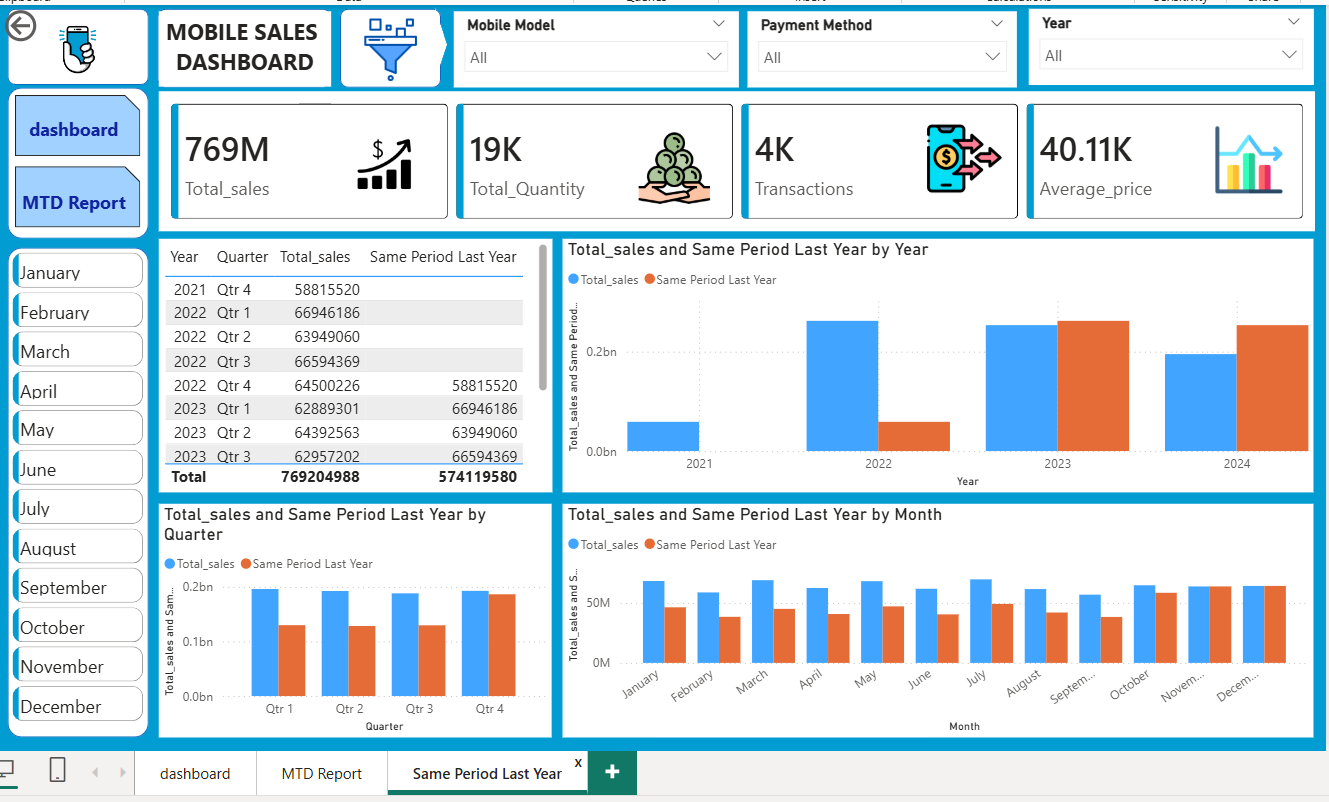

The dashboard page shown, as its layout file describes it:
{"tool":"powerbi","page":{"name":"Same Period Last Year","canvas":[1280,720],"ordinal":2},"visuals":[{"type":"shape","box":[7.2,3.6,136.3,73.6],"z":0},{"type":"image","box":[16.9,12.1,119.4,61.5],"z":1000},{"type":"cardVisual","fields":{"Data":["Sales_Data.Total_sales","Sales_Data.Total_Quantity","Sales_Data.Transactions","Sales_Data.Average_price"]},"box":[148.4,78.4,1128,146],"z":2000},{"type":"image","box":[328.2,120.6,85.7,65.1],"z":3000},{"type":"image","box":[609.3,120.6,83.2,73.6],"z":4000},{"type":"image","box":[891.6,112.2,78.4,72.4],"z":5000},{"type":"image","box":[1169,117,72.4,65.1],"z":6000},{"type":"slicer","fields":{"Values":["Sales_Data.Mobile Model"]},"box":[437.5,6.2,275,73.8],"z":7000},{"type":"slicer","fields":{"Values":["Sales_Data.Payment Method"]},"box":[721.2,6.2,260,73.8],"z":8000},{"type":"slicer","fields":{"Values":["Custom_Calendar.Date.Variation.Date Hierarchy.Year","Custom_Calendar.Date.Variation.Date Hierarchy.Quarter","Custom_Calendar.Date.Variation.Date Hierarchy.Month","Custom_Calendar.Date.Variation.Date Hierarchy.Day"]},"box":[992.5,3.8,275,73.8],"z":9000},{"type":"shape","box":[328.8,3.8,97.5,76.2],"z":10000},{"type":"image","box":[340,12.5,73.8,62.5],"z":11000},{"type":"shape","box":[407.5,1.2,23.8,73.8],"z":12000},{"type":"shape","box":[152.5,3.8,167.5,76.2],"z":13000},{"type":"textbox","box":[153.8,6.2,166.2,72.5],"z":14000},{"type":"shape","box":[7.2,79.6,136.3,146],"z":15000},{"type":"actionButton","box":[0,0,100,40],"z":16000},{"type":"shape","box":[7.2,234,136.3,472.9],"z":17000},{"type":"tableEx","fields":{"Values":["Custom_Calendar.Date.Variation.Date Hierarchy.Year","Custom_Calendar.Date.Variation.Date Hierarchy.Quarter","Sales_Data.Total_sales","Sales_Data.Same Period Last Year"]},"box":[153.2,225.6,380,244.9],"z":18000},{"type":"clusteredColumnChart","fields":{"Category":["Custom_Calendar.Date.Variation.Date Hierarchy.Year","Custom_Calendar.Date.Variation.Date Hierarchy.Quarter"],"Y":["Sales_Data.Total_sales","Sales_Data.Same Period Last Year"]},"box":[542.9,225.6,725.1,244.9],"z":19000},{"type":"clusteredColumnChart","fields":{"Category":["Custom_Calendar.Date.Variation.Date Hierarchy.Year","Custom_Calendar.Date.Variation.Date Hierarchy.Quarter"],"Y":["Sales_Data.Total_sales","Sales_Data.Same Period Last Year"]},"box":[153.2,481.4,378.8,225.6],"z":20000},{"type":"clusteredColumnChart","fields":{"Category":["Custom_Calendar.Date.Variation.Date Hierarchy.Year","Custom_Calendar.Date.Variation.Date Hierarchy.Quarter","Custom_Calendar.Date.Variation.Date Hierarchy.Month","Custom_Calendar.Date.Variation.Date Hierarchy.Day"],"Y":["Sales_Data.Total_sales","Sales_Data.Same Period Last Year"]},"box":[542.9,481.4,725.1,225.6],"z":21000},{"type":"pageNavigator","box":[14.5,86.9,121.9,129.1],"z":22000},{"type":"advancedSlicerVisual","fields":{"Values":["Custom_Calendar.Date.Variation.Date Hierarchy.Month"]},"box":[7.2,234,136.3,472.9],"z":23000}]}

Visuals, with their boxes on the page's 1280x720 design canvas (x1, y1, x2, y2). These are canvas units, not pixel positions in the 1329x802 screenshot, which may show the page scaled, cropped or inside an application window:
shape: pyautogui.locateOnScreen(7, 4, 144, 77)
image: pyautogui.locateOnScreen(17, 12, 136, 74)
cardVisual - Sales_Data.Total_sales x Sales_Data.Total_Quantity: pyautogui.locateOnScreen(148, 78, 1276, 224)
image: pyautogui.locateOnScreen(328, 121, 414, 186)
image: pyautogui.locateOnScreen(609, 121, 692, 194)
image: pyautogui.locateOnScreen(892, 112, 970, 185)
image: pyautogui.locateOnScreen(1169, 117, 1241, 182)
slicer - Sales_Data.Mobile Model: pyautogui.locateOnScreen(438, 6, 712, 80)
slicer - Sales_Data.Payment Method: pyautogui.locateOnScreen(721, 6, 981, 80)
slicer - Custom_Calendar.Date.Variation.Date Hierarchy.Year x Custom_Calendar.Date.Variation.Date Hierarchy.Quarter: pyautogui.locateOnScreen(992, 4, 1268, 78)
shape: pyautogui.locateOnScreen(329, 4, 426, 80)
image: pyautogui.locateOnScreen(340, 12, 414, 75)
shape: pyautogui.locateOnScreen(408, 1, 431, 75)
shape: pyautogui.locateOnScreen(152, 4, 320, 80)
textbox: pyautogui.locateOnScreen(154, 6, 320, 79)
shape: pyautogui.locateOnScreen(7, 80, 144, 226)
actionButton: pyautogui.locateOnScreen(0, 0, 100, 40)
shape: pyautogui.locateOnScreen(7, 234, 144, 707)
tableEx - Custom_Calendar.Date.Variation.Date Hierarchy.Year x Custom_Calendar.Date.Variation.Date Hierarchy.Quarter: pyautogui.locateOnScreen(153, 226, 533, 470)
clusteredColumnChart - Custom_Calendar.Date.Variation.Date Hierarchy.Year x Custom_Calendar.Date.Variation.Date Hierarchy.Quarter: pyautogui.locateOnScreen(543, 226, 1268, 470)
clusteredColumnChart - Custom_Calendar.Date.Variation.Date Hierarchy.Year x Custom_Calendar.Date.Variation.Date Hierarchy.Quarter: pyautogui.locateOnScreen(153, 481, 532, 707)
clusteredColumnChart - Custom_Calendar.Date.Variation.Date Hierarchy.Year x Custom_Calendar.Date.Variation.Date Hierarchy.Quarter: pyautogui.locateOnScreen(543, 481, 1268, 707)
pageNavigator: pyautogui.locateOnScreen(14, 87, 136, 216)
advancedSlicerVisual - Custom_Calendar.Date.Variation.Date Hierarchy.Month: pyautogui.locateOnScreen(7, 234, 144, 707)
